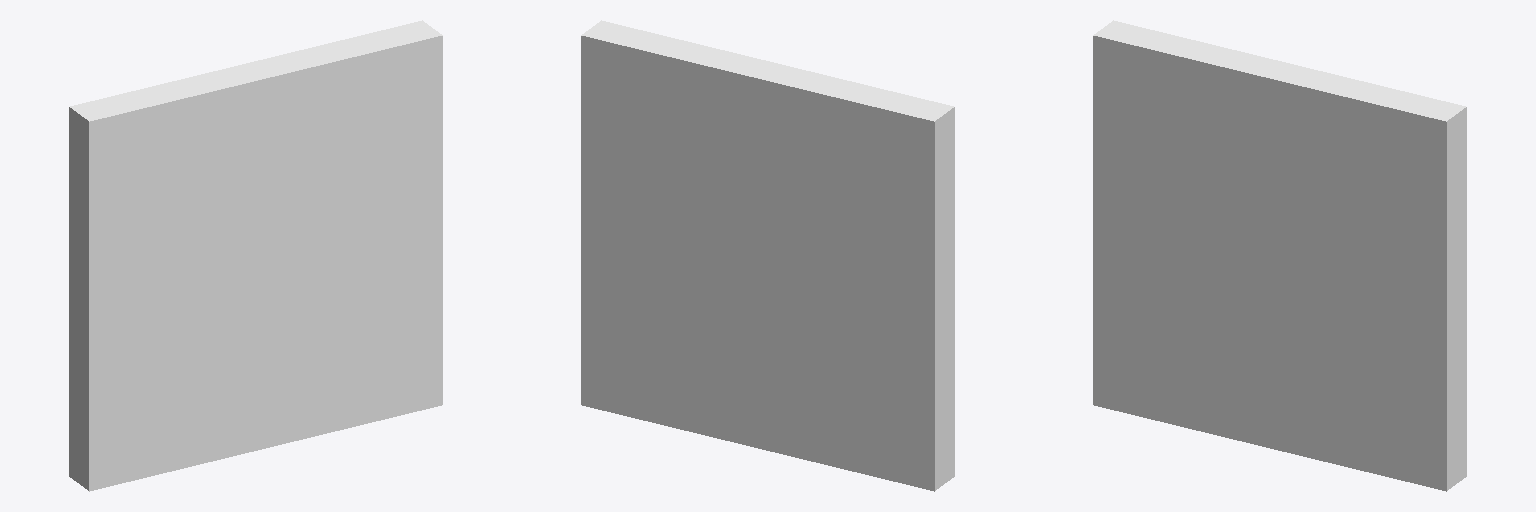
The robot description file, URDF, robot "calibration_board":
<?xml version="1.0"?>
<robot name="calibration_board">

  <link name="base_link">

    <visual>
    <origin xyz="0 0 0" rpy="0 0 0"/>
      <geometry>
        <mesh filename="package://calibration_board/meshes/calibration_board.obj" scale="0.125 1.25 0.125"/>
      </geometry>
      <material name="White">
         <color rgba="1 1 1 1"/>
      </material>
    </visual>

  </link>

  <link name="link_1">
  </link>
  <link name="link_2">
  </link>

  <joint name="joint_1" type="fixed">
    <parent link="base_link"/>
    <child link="link_1"/>
    <origin xyz="-0.006 0 -0.006" rpy="-1.5707963267948966 -1.5707963267948966 0"/>
   </joint>

   <joint name="joint_2" type="fixed">
    <parent link="base_link"/>
    <child link="link_2"/>
    <origin xyz="-0.0125 0 -0.0125" rpy="-1.5707963267948966 -1.5707963267948966 0"/>
   </joint>

</robot>

--- What the picture shows (computed from the rendered views, not written in the file) ---
The picture shows the robot from 3 angles, left to right: view 1: azimuth 30°, elevation 25°; view 2: azimuth 150°, elevation 25°; view 3: azimuth 330°, elevation 25°; orthographic projection.
Robot: calibration_board — 3 links, 2 joints (2 fixed); root link base_link; default pose: every joint at zero.
Visible links, largest first — view 1: base_link; view 2: base_link; view 3: base_link.
Link boxes in pixels (x1,y1,x2,y2): base_link: (69, 20, 442, 491); base_link: (581, 20, 954, 491); base_link: (1093, 20, 1466, 491).
Size in the robot's own frame: 0.025 by 0.0025 by 0.025 metres.
1 mesh visuals loaded from 1 distinct referenced files (1 OBJ).
